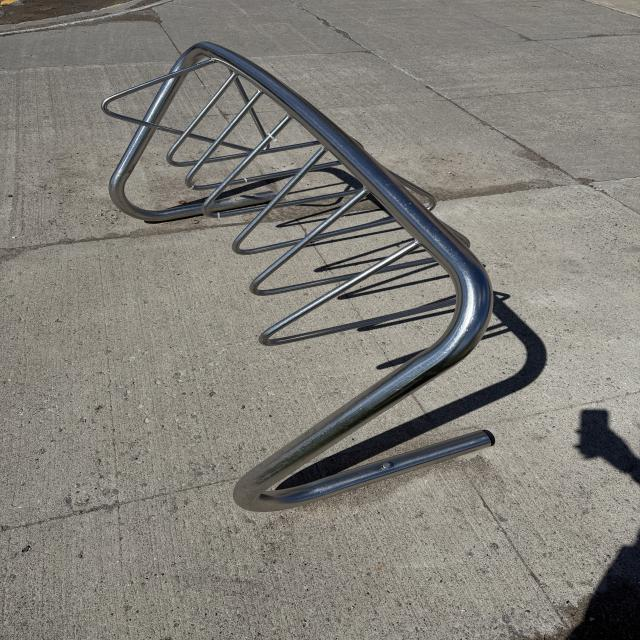Bicycle Rack: (107, 42, 498, 515)
